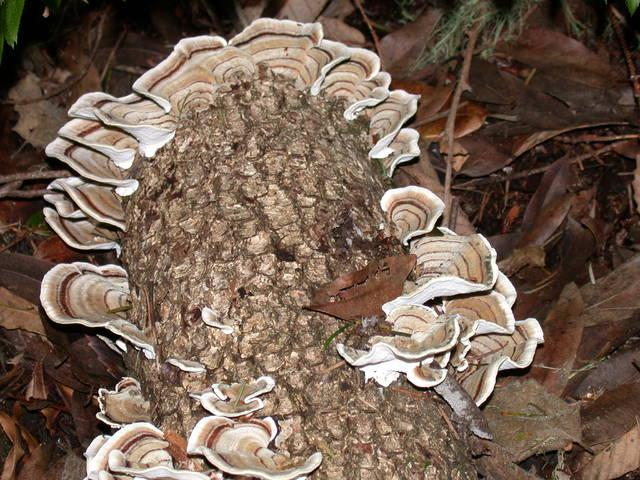poisonous_mushroom: (38, 16, 544, 478), (335, 183, 545, 438)
